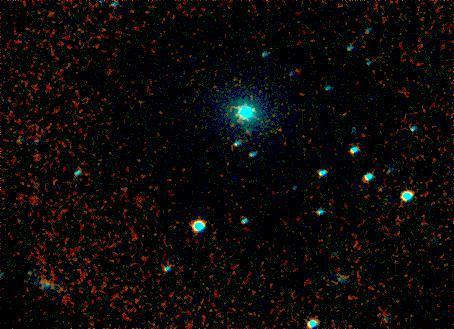star: (280, 52, 310, 82)
